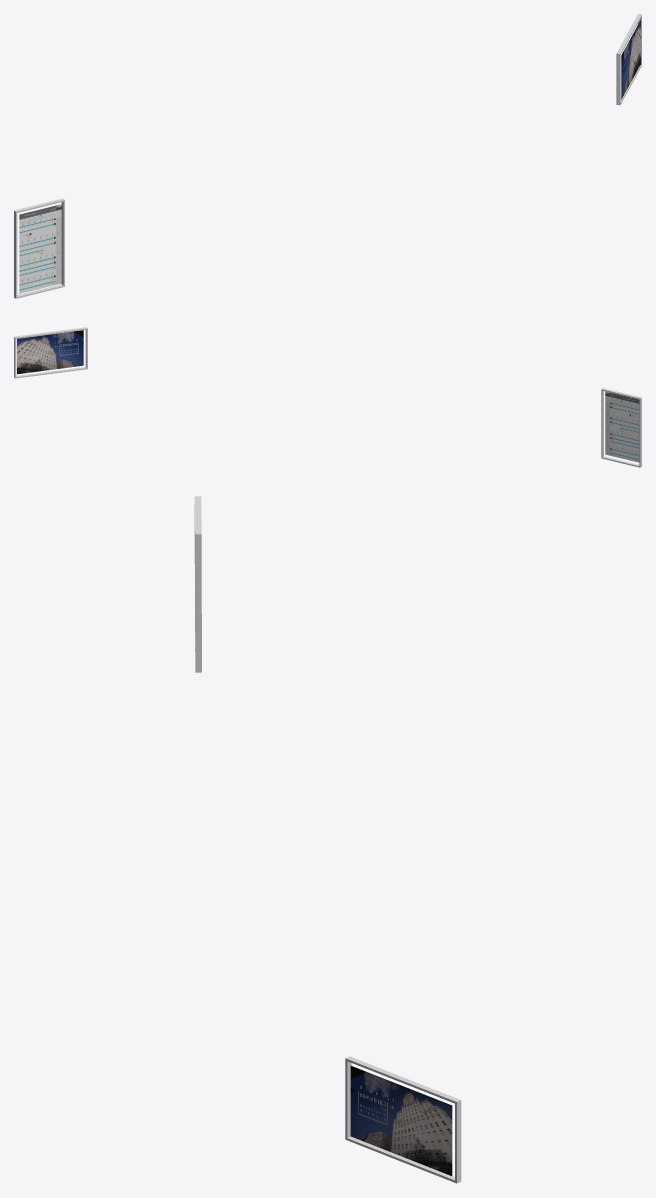
The model's file is SM_Screens.fbx.
3 renders of one model, top to bottom at view 1: azimuth 30°, elevation 25°; view 2: azimuth 150°, elevation 25°; view 3: azimuth 270°, elevation 25°, orthographic. The views are drawn at different scales.
Parts seen in each view (by area): view 1: Screen05, Screen05_estructure, Screen02, Screen02_estructure; view 2: Screen02, Screen05, Screen02_estructure, Screen05_estructure; view 3: Screen02, Screen02_estructure, Screen05_estructure.
Part boxes in pixels (left/top/right/bottom): Screen05: left=19, top=204, right=61, bottom=293; Screen05_estructure: left=14, top=198, right=64, bottom=298; Screen02: left=621, top=20, right=640, bottom=99; Screen02_estructure: left=616, top=14, right=641, bottom=105; Screen02: left=17, top=330, right=83, bottom=374; Screen05: left=605, top=391, right=639, bottom=462; Screen02_estructure: left=14, top=327, right=87, bottom=378; Screen05_estructure: left=601, top=388, right=641, bottom=467; Screen02: left=350, top=1066, right=452, bottom=1175; Screen02_estructure: left=345, top=1056, right=461, bottom=1183; Screen05_estructure: left=194, top=496, right=201, bottom=672.
Size of the model in its own units: 4483 by 526 by 920.
Materials: 1 (1 with a texture image).
